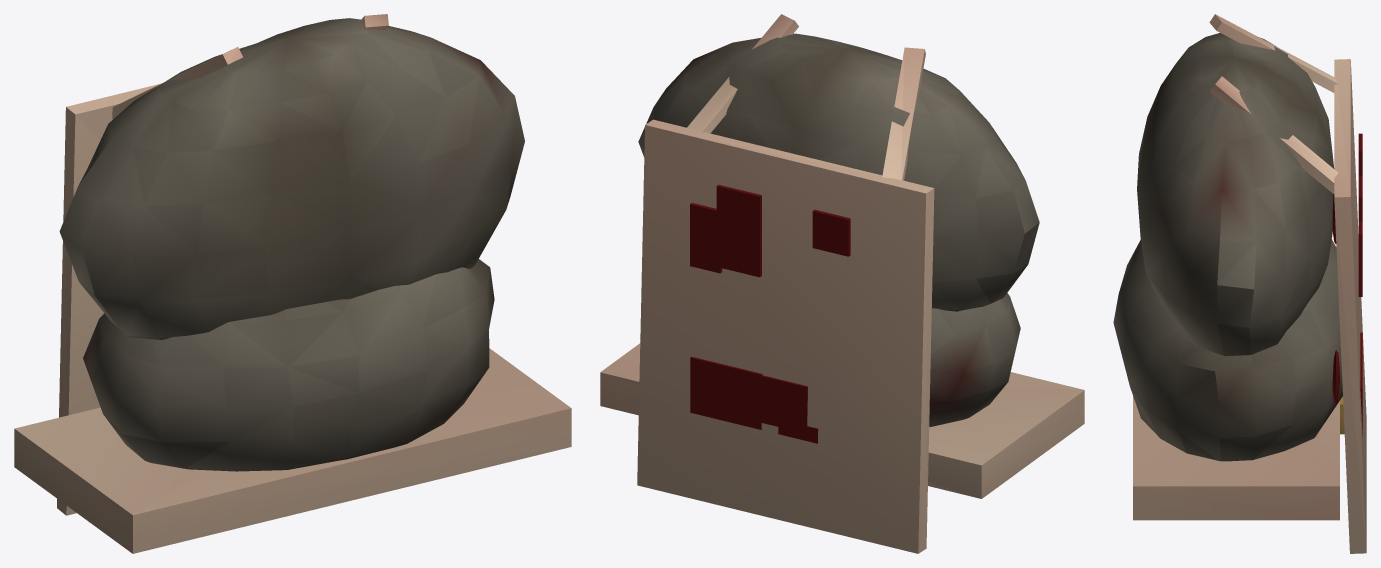
The model's file is PapaTorso.glb.
3 views of the same model, side by side, from view 1: azimuth 30°, elevation 25°; view 2: azimuth 150°, elevation 25°; view 3: azimuth 270°, elevation 25° (orthographic). The views are drawn at different scales.
Visible parts, largest first — view 1: PapaTorso_shirtPapa, PapaTorso_leather; view 2: PapaTorso_leather, PapaTorso_shirtPapa, PapaTorso_blood; view 3: PapaTorso_shirtPapa, PapaTorso_leather, PapaTorso_blood.
Part boxes in pixels (x1=…): PapaTorso_shirtPapa: x1=59, y1=18, x2=524, y2=471; PapaTorso_leather: x1=14, y1=14, x2=571, y2=553; PapaTorso_leather: x1=600, y1=14, x2=1084, y2=553; PapaTorso_shirtPapa: x1=638, y1=33, x2=1039, y2=426; PapaTorso_blood: x1=690, y1=184, x2=850, y2=443; PapaTorso_shirtPapa: x1=1113, y1=33, x2=1342, y2=461; PapaTorso_leather: x1=1133, y1=14, x2=1366, y2=553; PapaTorso_blood: x1=1332, y1=133, x2=1362, y2=436.
Size of the model in its own units: 2.17 by 2.32 by 1.22.
